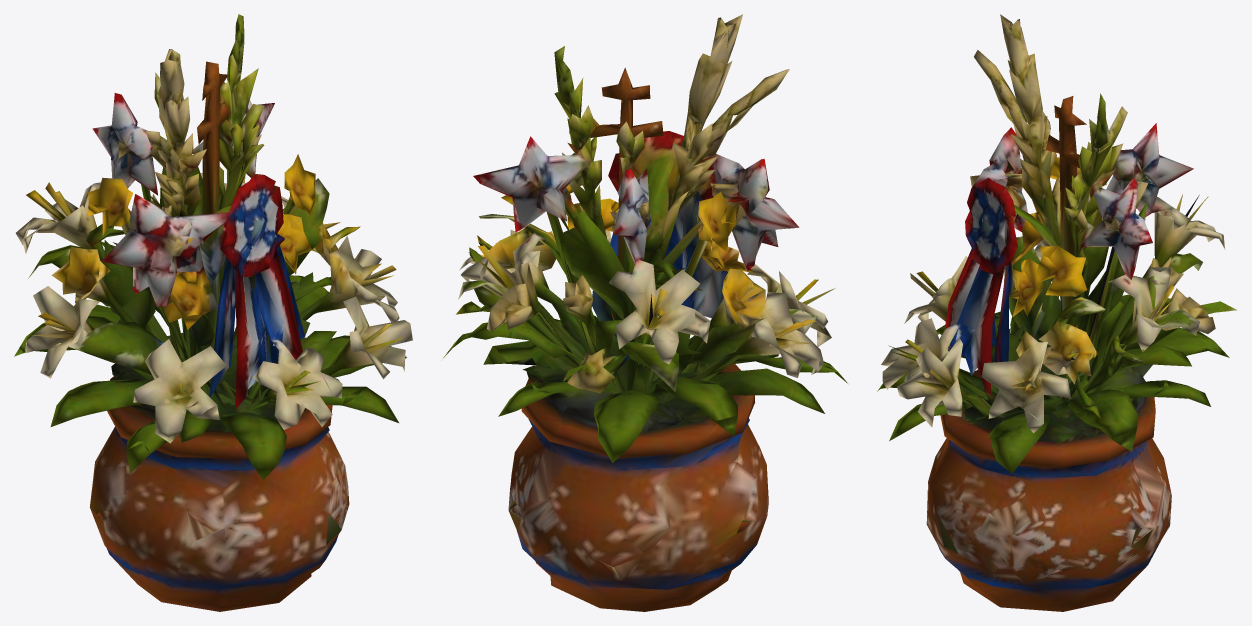
The model's file is arreglo_floral.glb.
The picture shows the model from 3 angles, left to right: view 1: azimuth 30°, elevation 25°; view 2: azimuth 150°, elevation 25°; view 3: azimuth 270°, elevation 25°; orthographic projection. The views are drawn at different scales.
Visible parts, largest first — view 1: arreglo_floral; view 2: arreglo_floral; view 3: arreglo_floral.
Part boxes in pixels (x1=…): arreglo_floral: x1=14, y1=14, x2=412, y2=611; arreglo_floral: x1=441, y1=14, x2=847, y2=611; arreglo_floral: x1=877, y1=14, x2=1237, y2=611.
Size of the model in its own units: 0.3313 by 0.5005 by 0.3107.
Materials: 1 (1 with a texture image).
